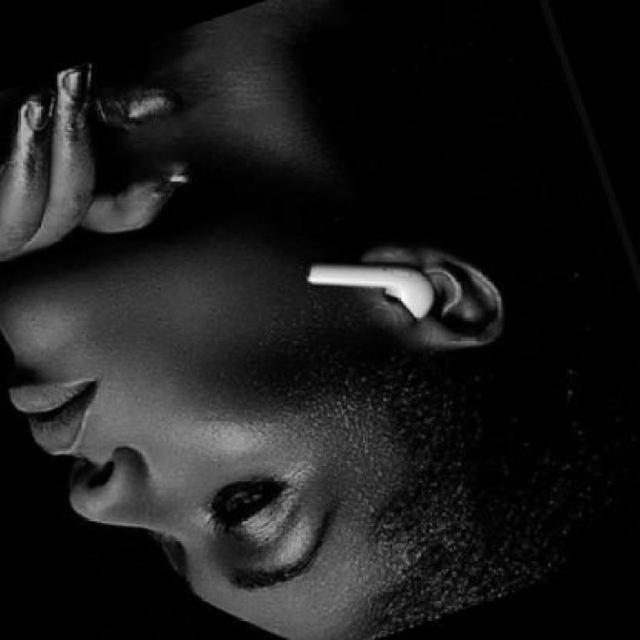earphone: (298, 250, 468, 344)
